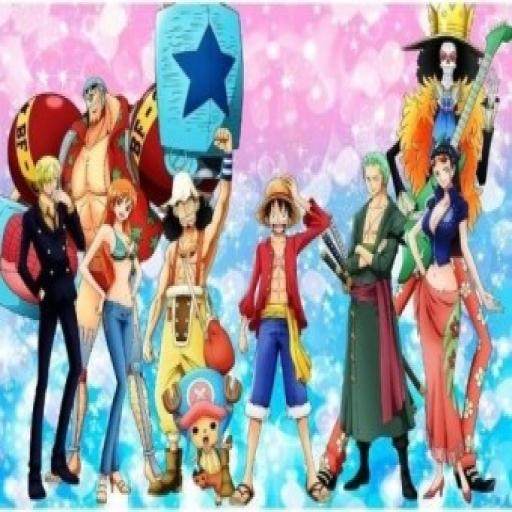Luffy: (252, 177, 312, 239)
Nami: (101, 175, 144, 228)
NicoRobin: (424, 137, 464, 206)
Usopp: (160, 168, 210, 242)
Zoro: (358, 148, 394, 208)
sanji: (35, 156, 64, 207)
